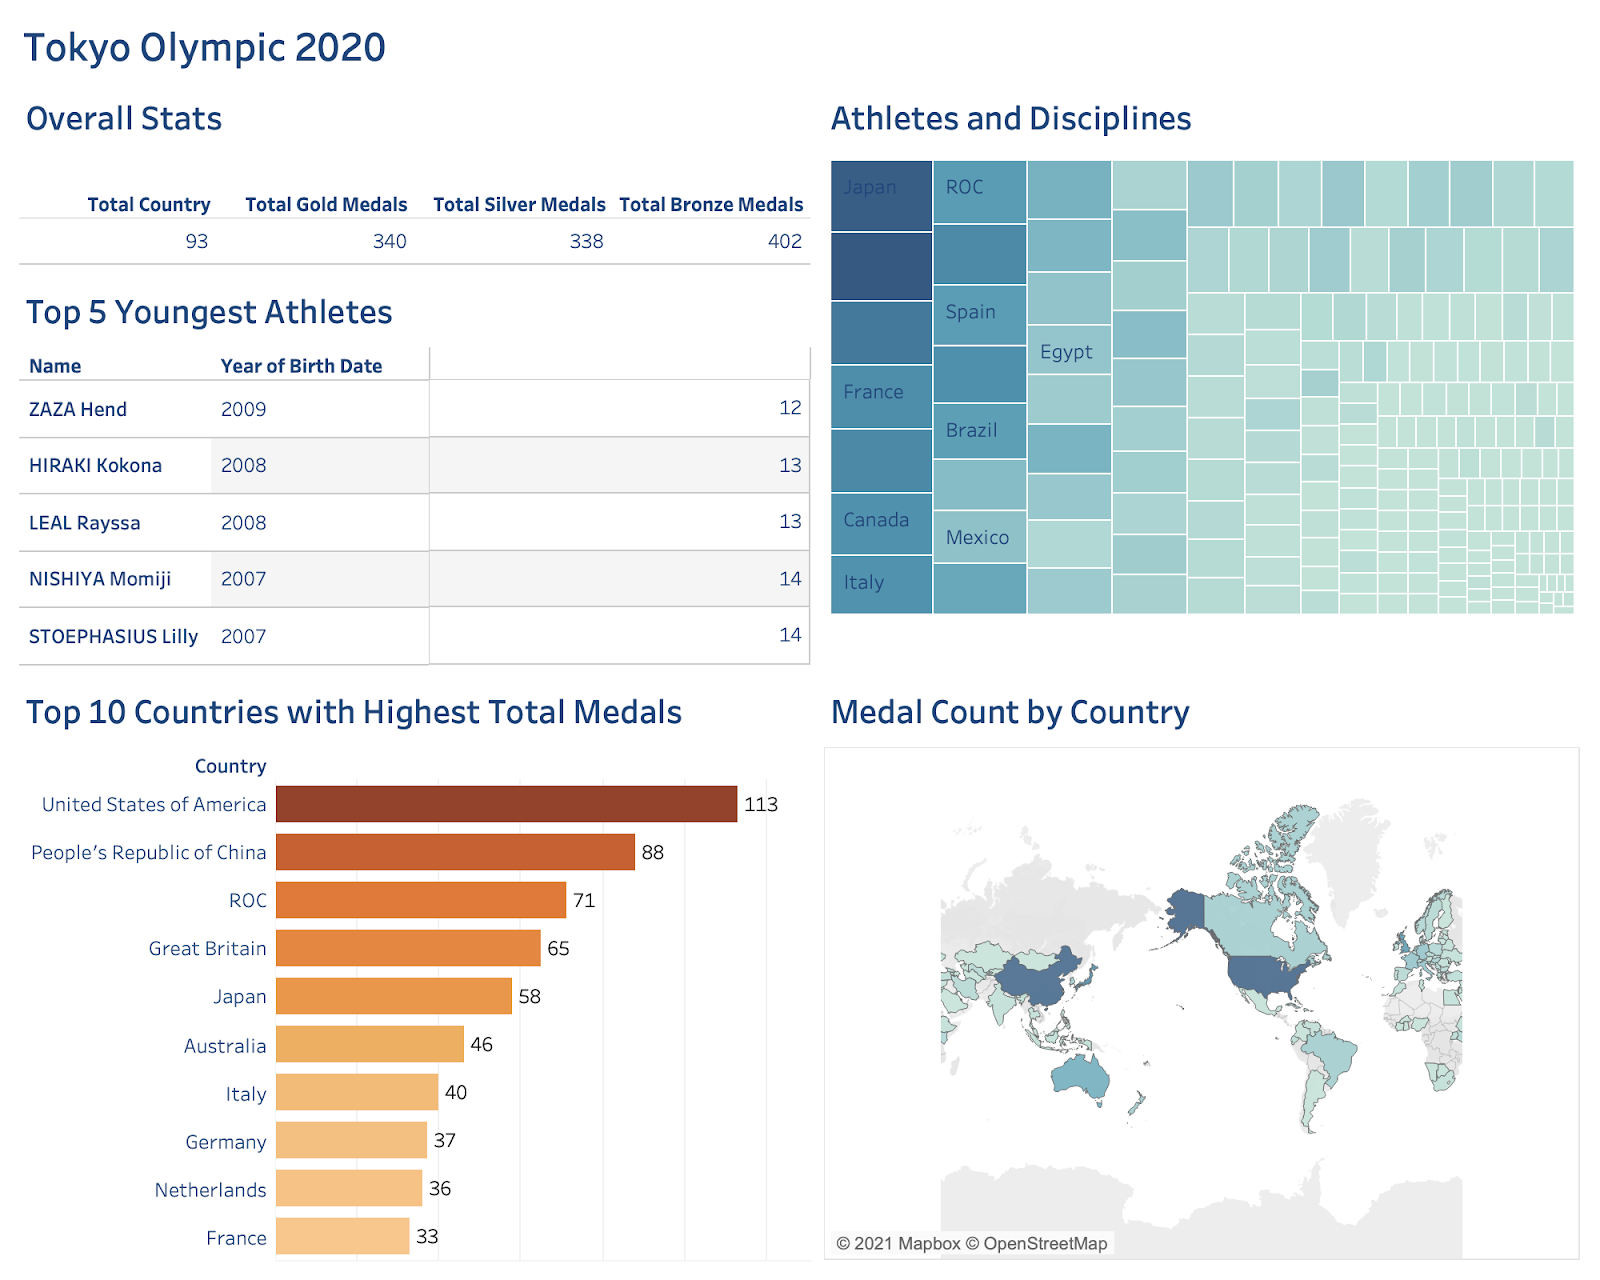

The page's visual inventory and layout, read from the dashboard file:
{"tool":"tableau","page":{"name":"Dashboard 1","canvas":[1000,800],"ordinal":0},"visuals":[{"type":"title","box":[8,8,984,41]},{"type":"worksheet","title":"Overall Stats","mark":"Automatic","box":[8,49,503,121]},{"type":"worksheet","title":"Athletes and Disciplines ","mark":"Automatic","box":[511,49,481,371.5]},{"type":"worksheet","title":"Top 5 Youngest Athletes","mark":"Automatic","rows":["name","birth_date"],"box":[8,170,503,250]},{"type":"worksheet","title":"Top 10 Countries with Highest Total Medals","mark":"Automatic","rows":["Country"],"cols":["Total"],"box":[8,420,503,372]},{"type":"worksheet","title":"Medal Count by Country","mark":"Automatic","box":[511,420.5,481,371.5]}]}

Visuals, with their boxes in screenshot pixels (x1, y1, x2, y2), scaled from the page's 1000x800 canvas onto the 1600x1280 screenshot:
title: x1=13 y1=13 x2=1587 y2=78
"Overall Stats" worksheet: x1=13 y1=78 x2=818 y2=272
"Athletes and Disciplines " worksheet: x1=818 y1=78 x2=1587 y2=673
"Top 5 Youngest Athletes" worksheet: x1=13 y1=272 x2=818 y2=672
"Top 10 Countries with Highest Total Medals" worksheet: x1=13 y1=672 x2=818 y2=1267
"Medal Count by Country" worksheet: x1=818 y1=673 x2=1587 y2=1267
